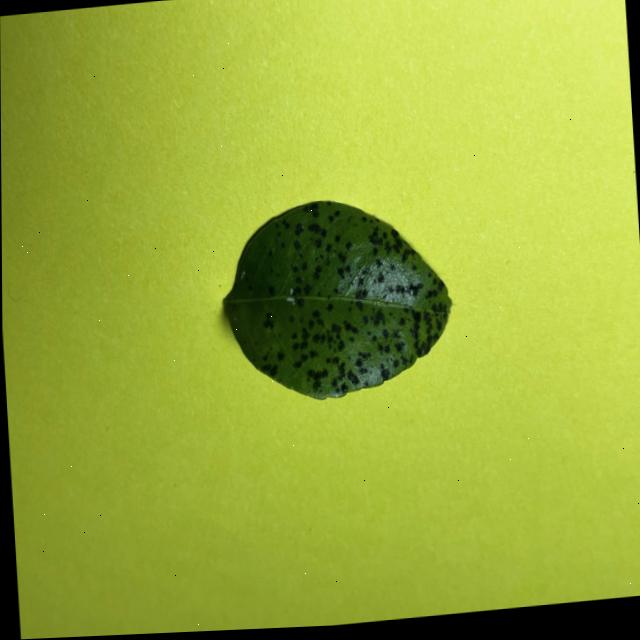sooty_mold: (225, 201, 452, 399), (265, 302, 266, 303)
